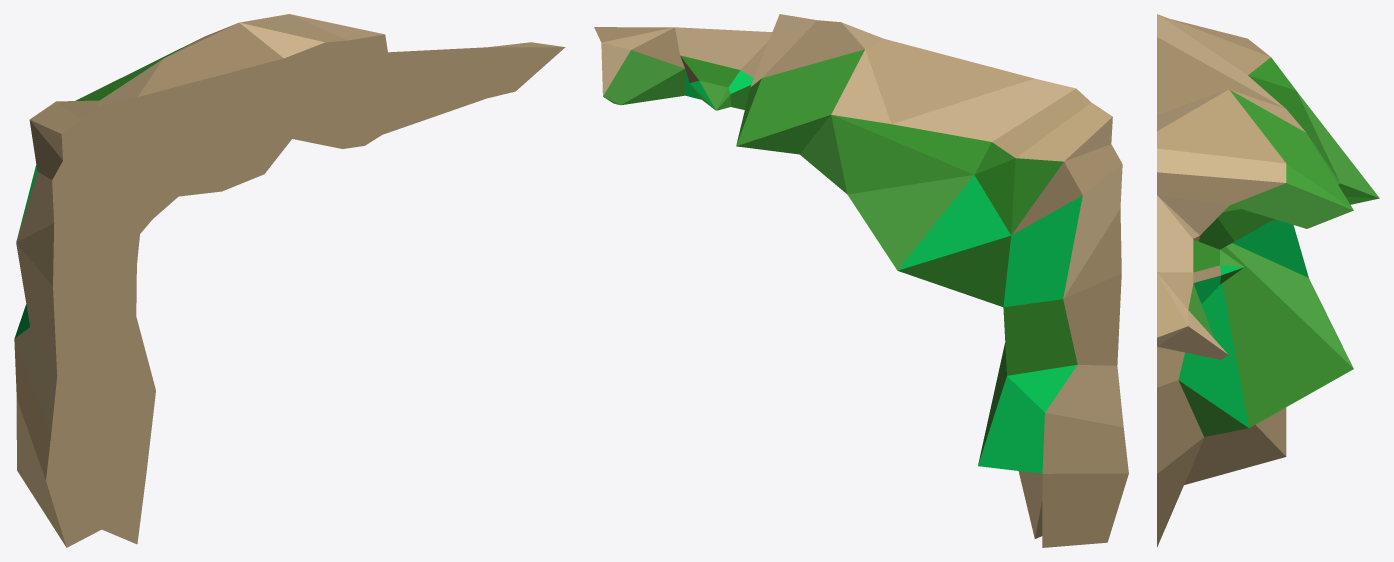
File: desert_middle_mountain_3.fbx
The picture shows the model from 3 angles, left to right: view 1: azimuth 30°, elevation 25°; view 2: azimuth 150°, elevation 25°; view 3: azimuth 270°, elevation 25°; orthographic projection. The views are drawn at different scales.
Parts seen in each view (by area): view 1: desert_middle_mountain_3; view 2: desert_middle_mountain_3; view 3: desert_middle_mountain_3.
Part boxes in pixels (x1,y1,x2,y2): desert_middle_mountain_3: (14,14,565,547); desert_middle_mountain_3: (594,14,1128,547); desert_middle_mountain_3: (1157,14,1379,547).
Size of the model in its own units: 1058 by 907 by 344.
